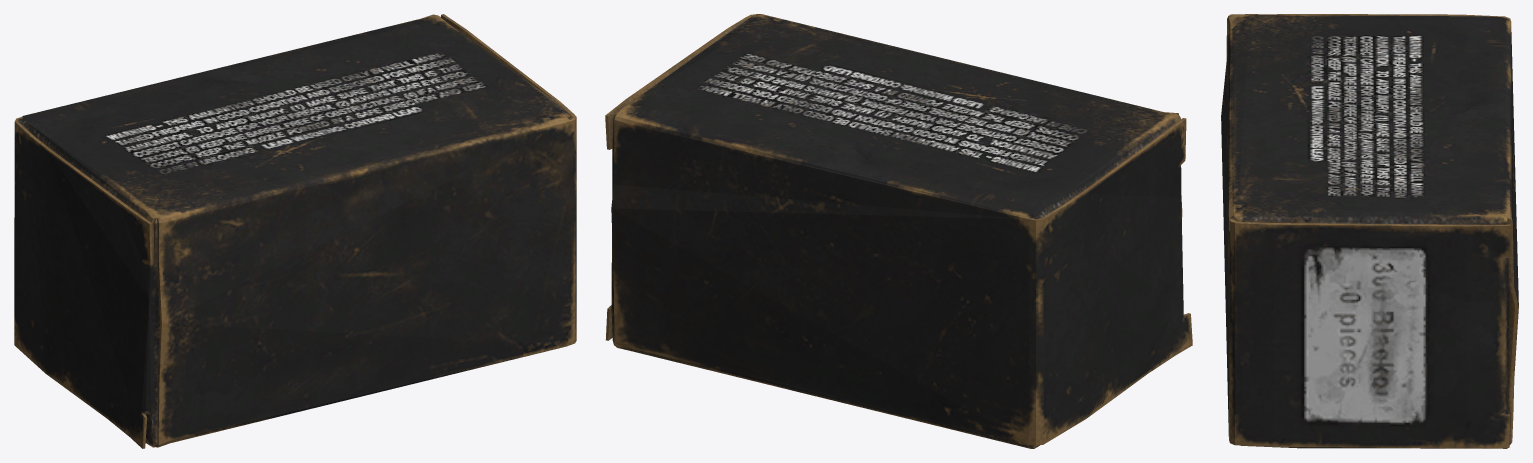
3 views of the same model, side by side, from view 1: azimuth 30°, elevation 25°; view 2: azimuth 150°, elevation 25°; view 3: azimuth 270°, elevation 25° (orthographic).
Parts seen in each view (by area): view 1: TW_657023bebfc87b3a34093207_PZ_Import; view 2: TW_657023bebfc87b3a34093207_PZ_Import; view 3: TW_657023bebfc87b3a34093207_PZ_Import.
Boxes of the visible parts, box(x1,y1,x2,y2) form: TW_657023bebfc87b3a34093207_PZ_Import: box(14, 14, 576, 448); TW_657023bebfc87b3a34093207_PZ_Import: box(605, 14, 1192, 448); TW_657023bebfc87b3a34093207_PZ_Import: box(1221, 14, 1518, 448).
Size of the model in its own units: 0.0607 by 0.0355 by 0.0309.
Materials: 1 (1 with a texture image).
